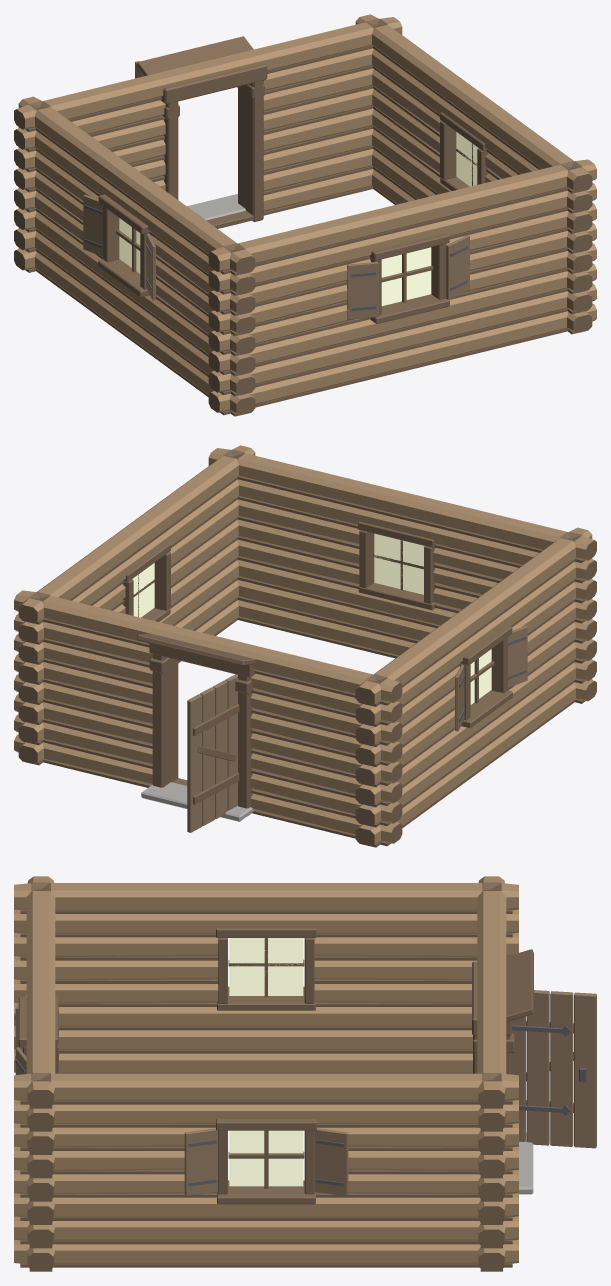
The model's file is stage_2_walls.glb.
3 views of the same model, one above another, from view 1: azimuth 30°, elevation 25°; view 2: azimuth 150°, elevation 25°; view 3: azimuth 270°, elevation 25° (orthographic). The views are drawn at different scales.
Visible parts, largest first — view 1: stage_2_walls; view 2: stage_2_walls; view 3: stage_2_walls.
Part boxes in pixels (box(x1,y1,x2,y2)): stage_2_walls: box(14, 14, 596, 416); stage_2_walls: box(14, 445, 596, 847); stage_2_walls: box(14, 876, 596, 1271).
Bounding box in the file's own units: 5.6 × 2.33 × 6.47.
